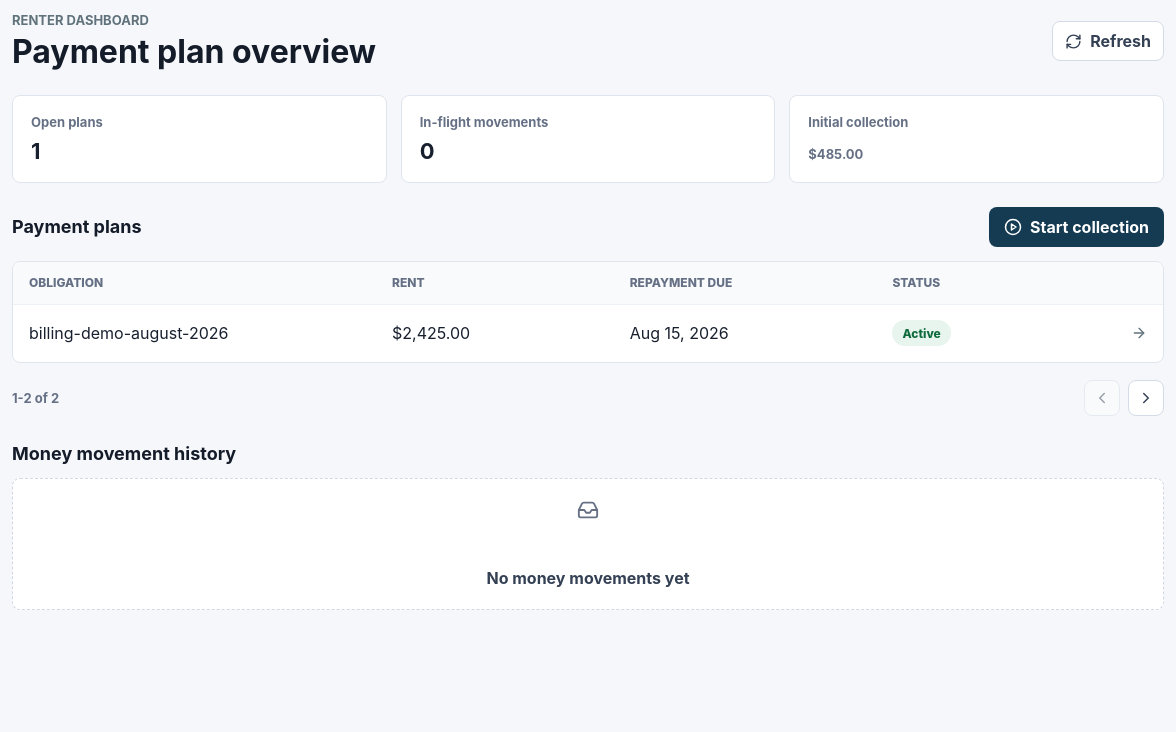
Scenario: RenterDashboardPage › paginates payment plans with Spring page params and disables first-page previous
Expected: the text "billing-demo-august-2026" is shown, [29,323,228,343]
Expected: the button named "Payment plans previous page" is disabled, [1084,380,1120,416]
Click the button named "Payment plans next page" at (1146, 398), box [1128,380,1164,416]
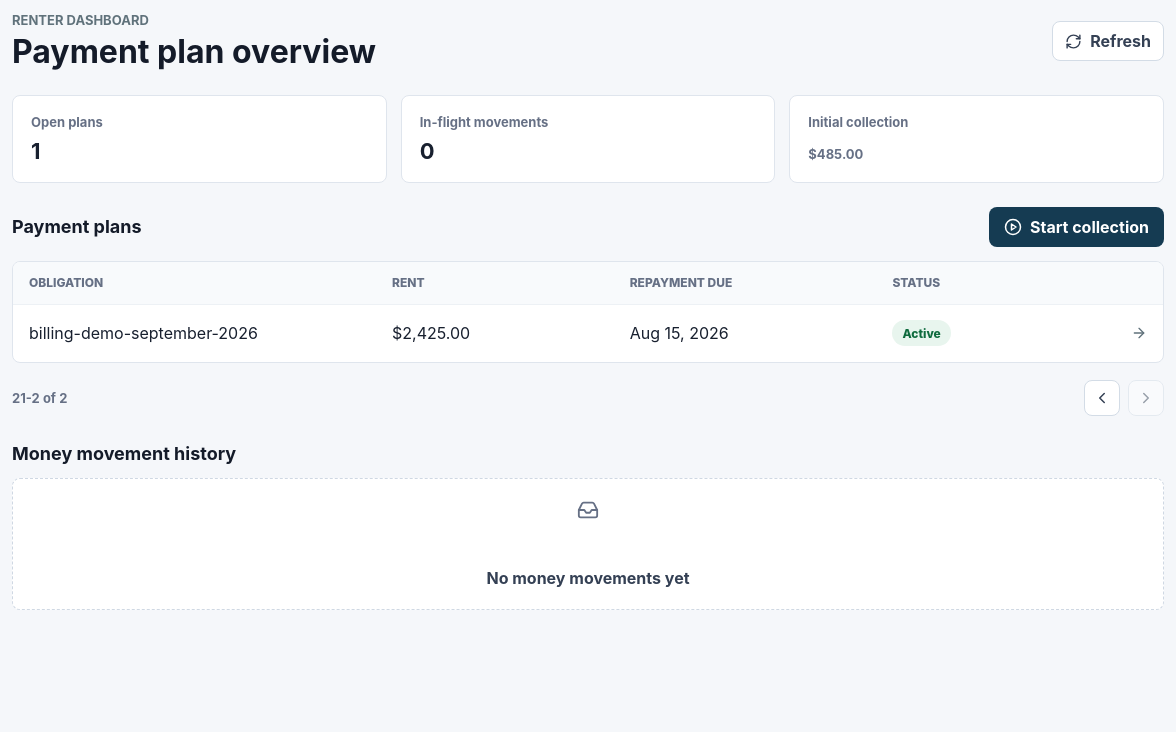
Result: the text "billing-demo-september-2026" is shown at [29,323,258,343]
